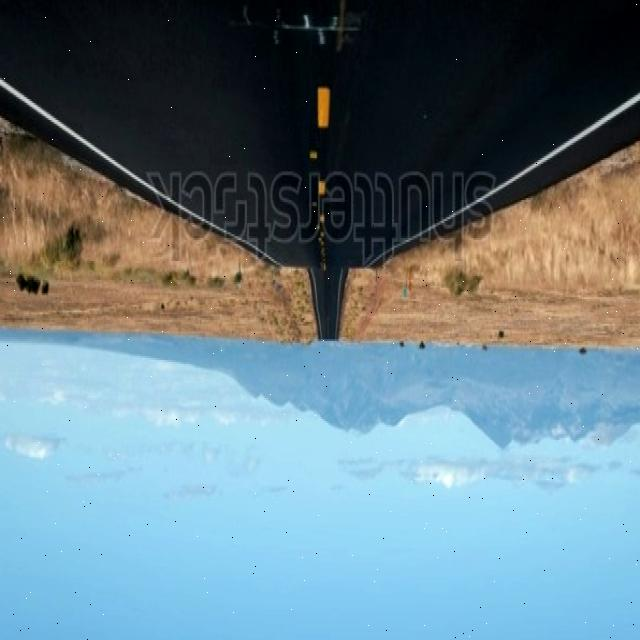lane: (318, 88, 331, 130), (319, 181, 325, 198)
road: (1, 4, 640, 341)
